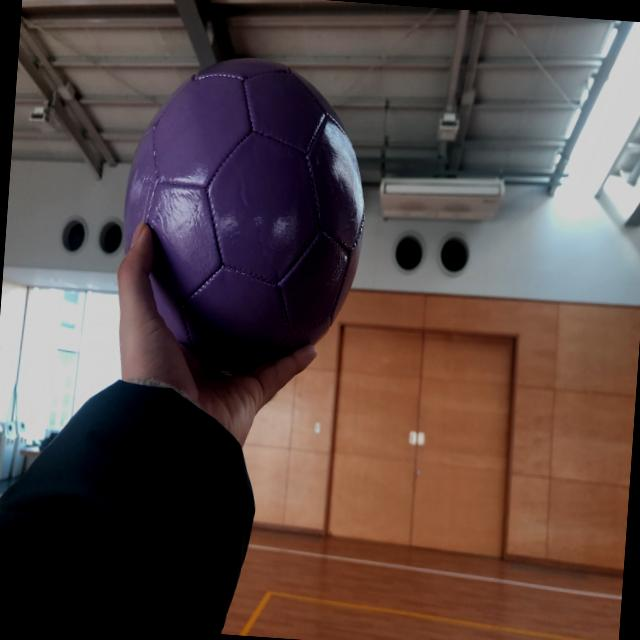purple_ball: (113, 49, 374, 380)
